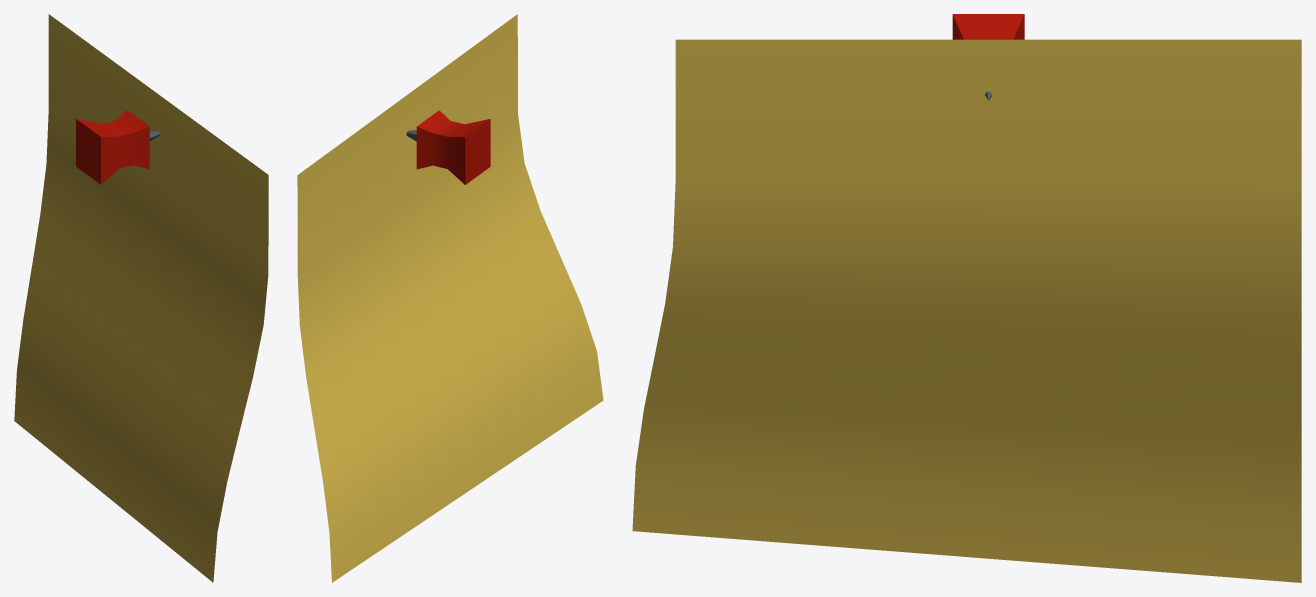
Rendered from PostIt_small.fbx.
The picture shows the model from 3 angles, left to right: view 1: azimuth 30°, elevation 25°; view 2: azimuth 150°, elevation 25°; view 3: azimuth 270°, elevation 25°; orthographic projection. The views are drawn at different scales.
Parts seen in each view (by area): view 1: PostIt_small_v.2; view 2: PostIt_small_v.2; view 3: PostIt_small_v.2.
Part boxes in pixels (box(x1,y1,x2,y2)): PostIt_small_v.2: box(14, 14, 268, 582); PostIt_small_v.2: box(297, 14, 603, 582); PostIt_small_v.2: box(632, 14, 1301, 582).
Bounding box in the file's own units: 0.0156 × 0.0748 × 0.08.
